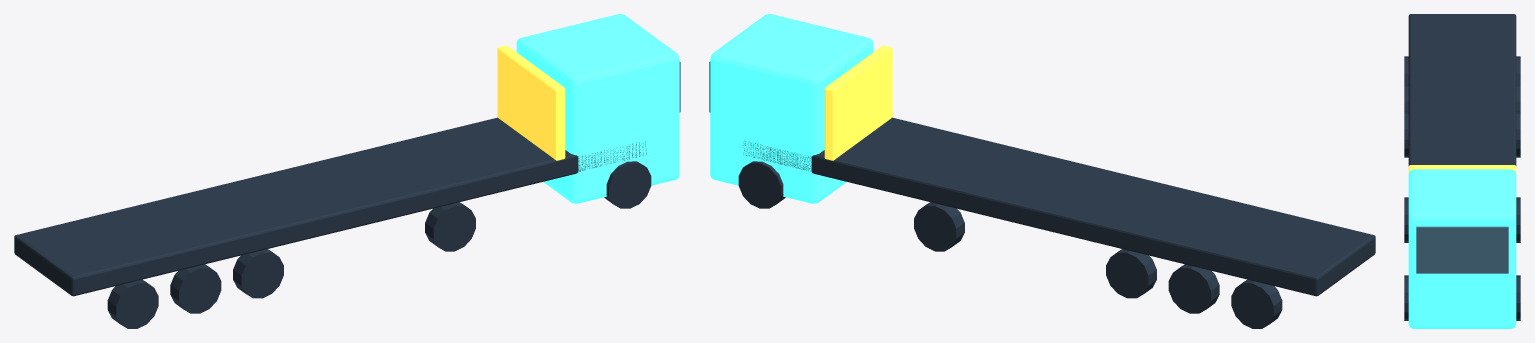
File: road-truck-v4-medium.glb
3 renders of one model, left to right at view 1: azimuth 30°, elevation 25°; view 2: azimuth 150°, elevation 25°; view 3: azimuth 270°, elevation 25°, orthographic. The views are drawn at different scales.
Visible parts, largest first — view 1: rtruck-chassis.001, rtruck-cab.001, rtruck-headboard.001, rtruck-wheel--5.8--1.001, rtruck-wheel--4.3--1.001, rtruck-wheel-1.8--1.001, rtruck-wheel--2.8--1.001, rtruck-wheel-6.0--1.001; view 2: rtruck-chassis.001, rtruck-cab.001, rtruck-headboard.001, rtruck-wheel--5.8-1.001, rtruck-wheel--4.3-1.001, rtruck-wheel-1.8-1.001, rtruck-wheel--2.8-1.001, rtruck-wheel-6.0-1.001; view 3: rtruck-chassis.001, rtruck-cab.001, rtruck-windshield.001, rtruck-headboard.001, rtruck-wheel-1.8-1.001, rtruck-wheel-1.8--1.001, rtruck-wheel-6.0-1.001, rtruck-wheel-6.0--1.001, rtruck-wheel--2.8-1.001, rtruck-wheel--2.8--1.001, rtruck-wheel--4.3-1.001, rtruck-wheel--4.3--1.001 (+2 smaller).
Part boxes in pixels (x1,y1,x2,y2): rtruck-chassis.001: [14, 117, 646, 296]; rtruck-cab.001: [516, 14, 679, 203]; rtruck-headboard.001: [497, 45, 565, 160]; rtruck-wheel--5.8--1.001: [107, 279, 158, 328]; rtruck-wheel--4.3--1.001: [170, 264, 221, 313]; rtruck-wheel-1.8--1.001: [425, 202, 475, 251]; rtruck-wheel--2.8--1.001: [233, 249, 283, 298]; rtruck-wheel-6.0--1.001: [604, 161, 651, 208]; rtruck-chassis.001: [743, 117, 1375, 296]; rtruck-cab.001: [710, 14, 873, 203]; rtruck-headboard.001: [824, 45, 892, 160]; rtruck-wheel--5.8-1.001: [1231, 279, 1282, 328]; rtruck-wheel--4.3-1.001: [1168, 264, 1219, 313]; rtruck-wheel-1.8-1.001: [914, 202, 964, 251]; rtruck-wheel--2.8-1.001: [1106, 249, 1156, 298]; rtruck-wheel-6.0-1.001: [738, 161, 785, 208]; rtruck-chassis.001: [1408, 14, 1516, 165]; rtruck-cab.001: [1408, 169, 1516, 328]; rtruck-windshield.001: [1416, 226, 1508, 273]; rtruck-headboard.001: [1408, 165, 1516, 173]; rtruck-wheel-1.8-1.001: [1516, 197, 1520, 242]; rtruck-wheel-1.8--1.001: [1404, 197, 1408, 242]; rtruck-wheel-6.0-1.001: [1516, 275, 1520, 320]; rtruck-wheel-6.0--1.001: [1404, 275, 1408, 320]; rtruck-wheel--2.8-1.001: [1516, 112, 1520, 157]; rtruck-wheel--2.8--1.001: [1404, 112, 1408, 157]; rtruck-wheel--4.3-1.001: [1516, 84, 1520, 111]; rtruck-wheel--4.3--1.001: [1404, 84, 1408, 111].
Bounding box in the file's own units: 14.67 × 3.2 × 2.65.
